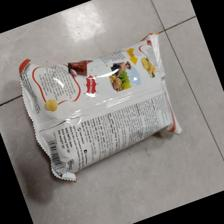Lays: (18, 30, 182, 184)
